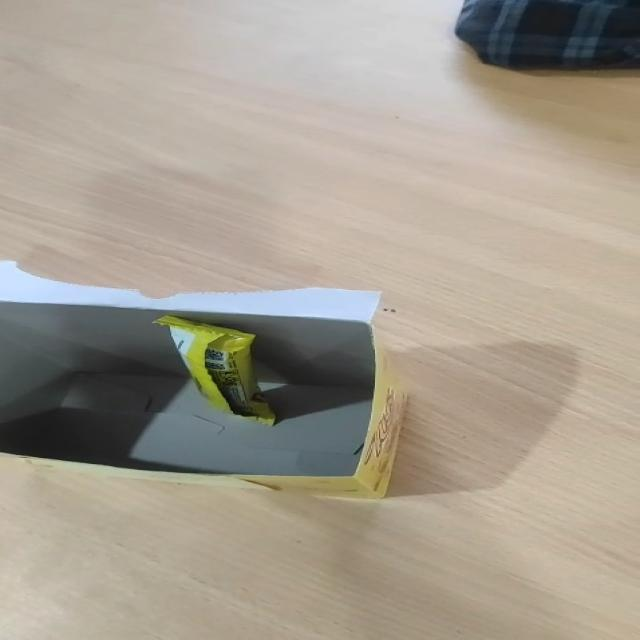Ahh: (151, 315, 276, 427)
